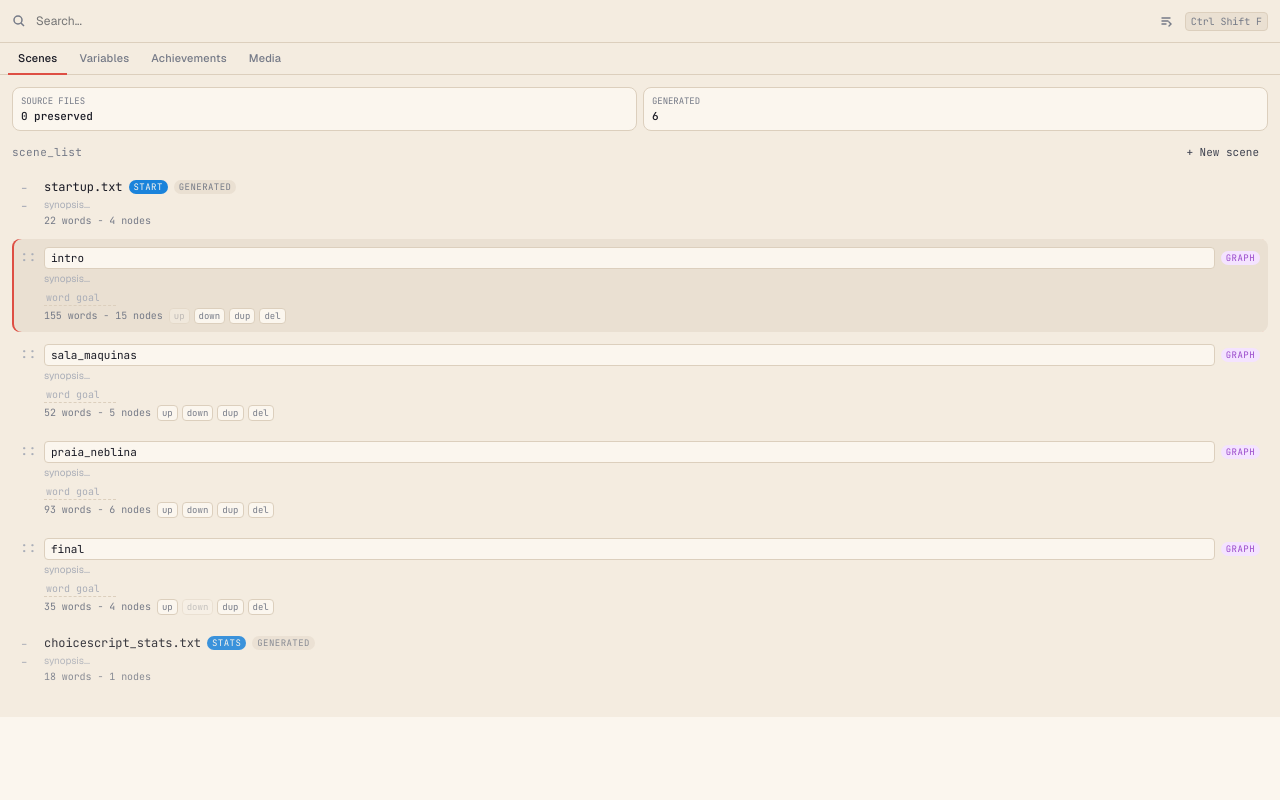
Test case: LeftPanel — replace status uses i18n keys › non-zero replace count substitutes {count} placeholder correctly
Type "anything" into the field with placeholder "Search..." at point(590, 21), box [34,12,1147,30]
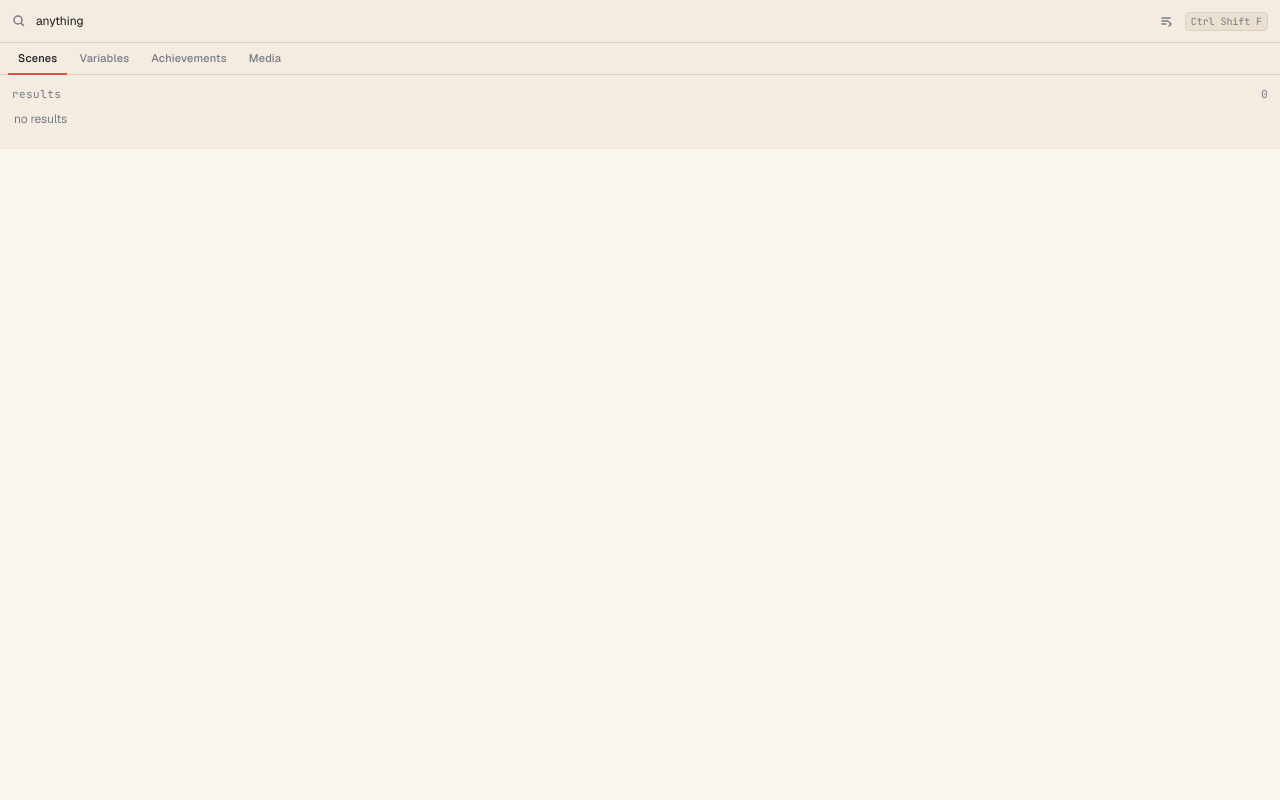
Click the button titled "find & replace (Ctrl H)" at point(1166, 21), box [1155,10,1177,32]
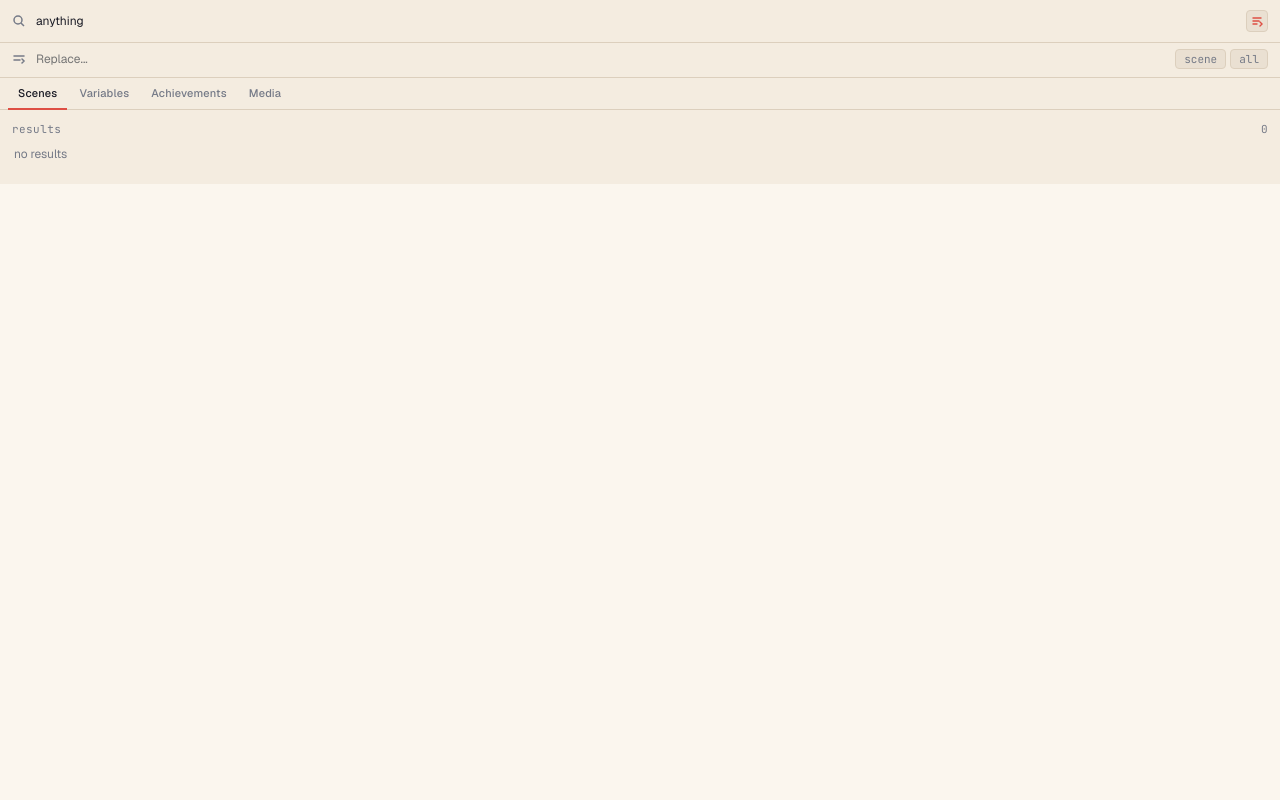
Click the button "scene" at point(1201, 59), box [1175,49,1226,69]
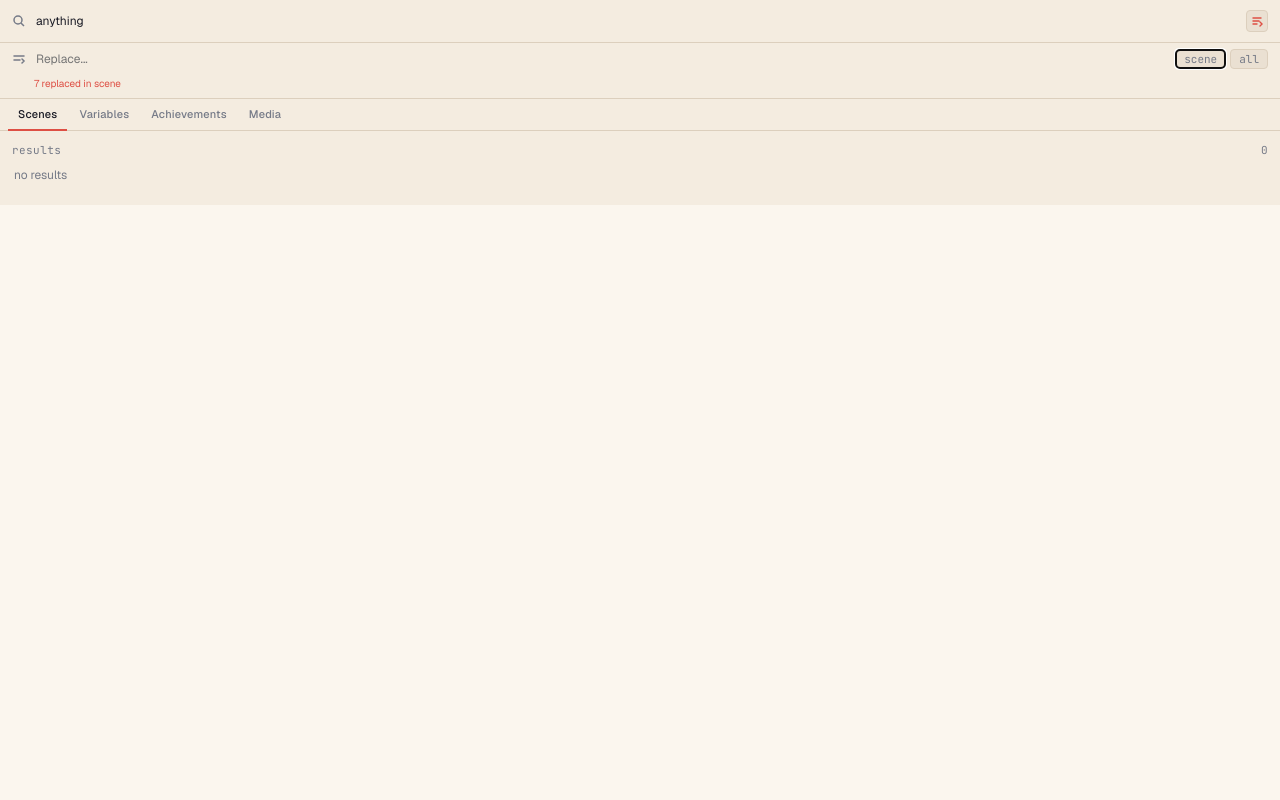
Expected: the text "7 replaced in scene" is shown, [34,77,121,90]
